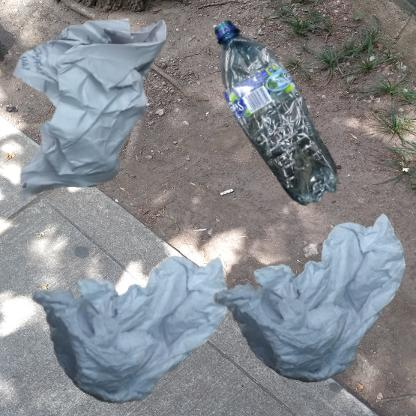botella: (213, 10, 347, 223)
papel: (10, 213, 252, 416), (213, 213, 406, 383), (10, 10, 168, 206)
